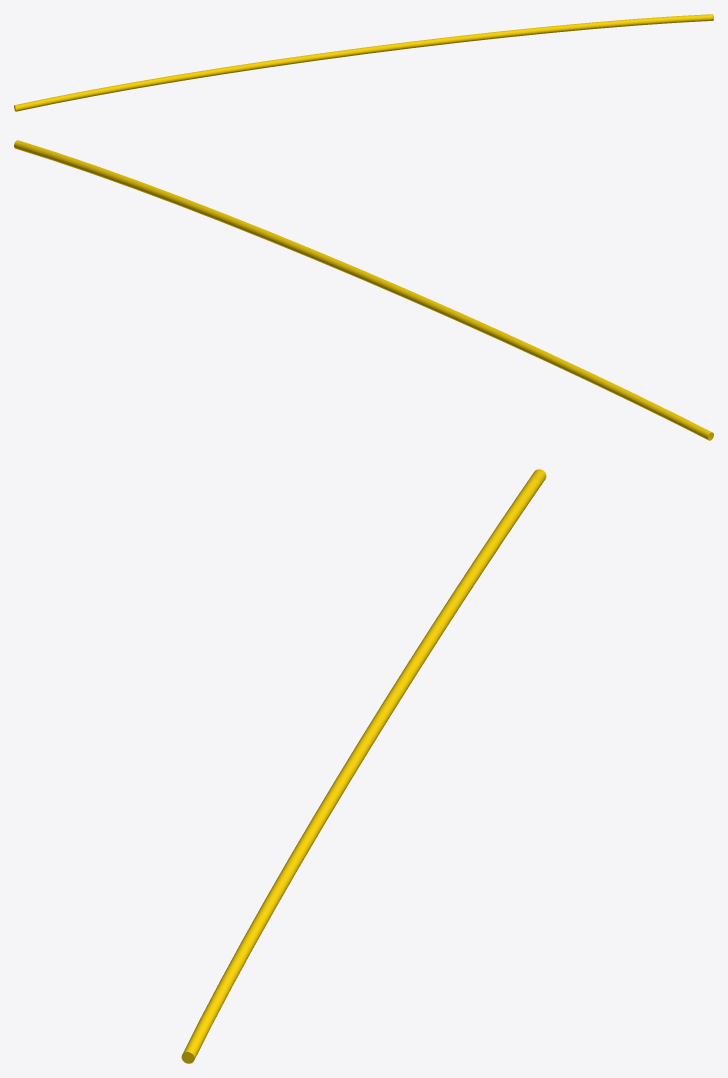
The model's file is Event_421115418_track_193.fbx.
The picture shows the model from 3 angles, top to bottom: view 1: azimuth 30°, elevation 25°; view 2: azimuth 150°, elevation 25°; view 3: azimuth 270°, elevation 25°; orthographic projection. The views are drawn at different scales.
Parts seen in each view (by area): view 1: Model; view 2: Model; view 3: Model.
Boxes of the visible parts, box(x1,y1,x2,y2) form: Model: box(14, 14, 713, 111); Model: box(14, 140, 713, 440); Model: box(181, 469, 546, 1063).
Size of the model in its own units: 4.19 by 0.1402 by 1.08.
